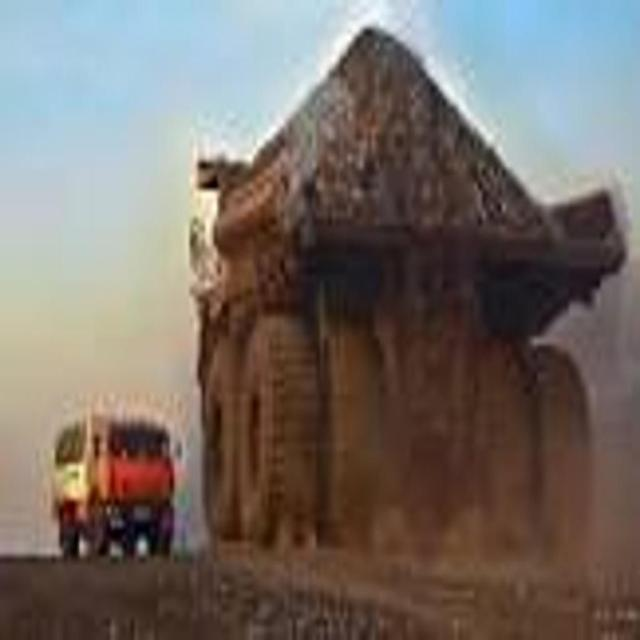dump_truck: (184, 19, 626, 640)
